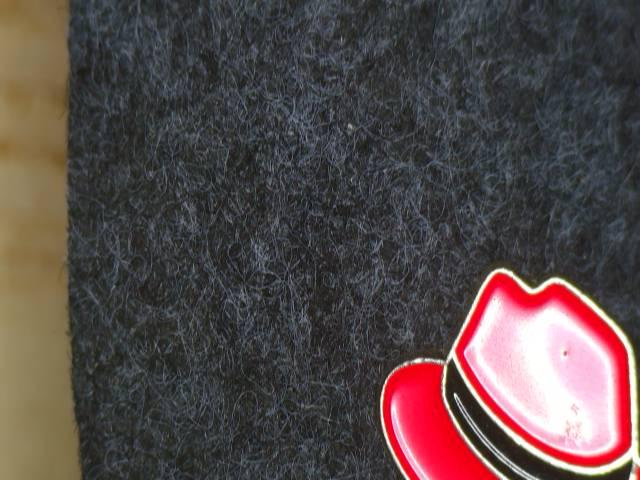Red-Hat: (342, 241, 640, 480)
